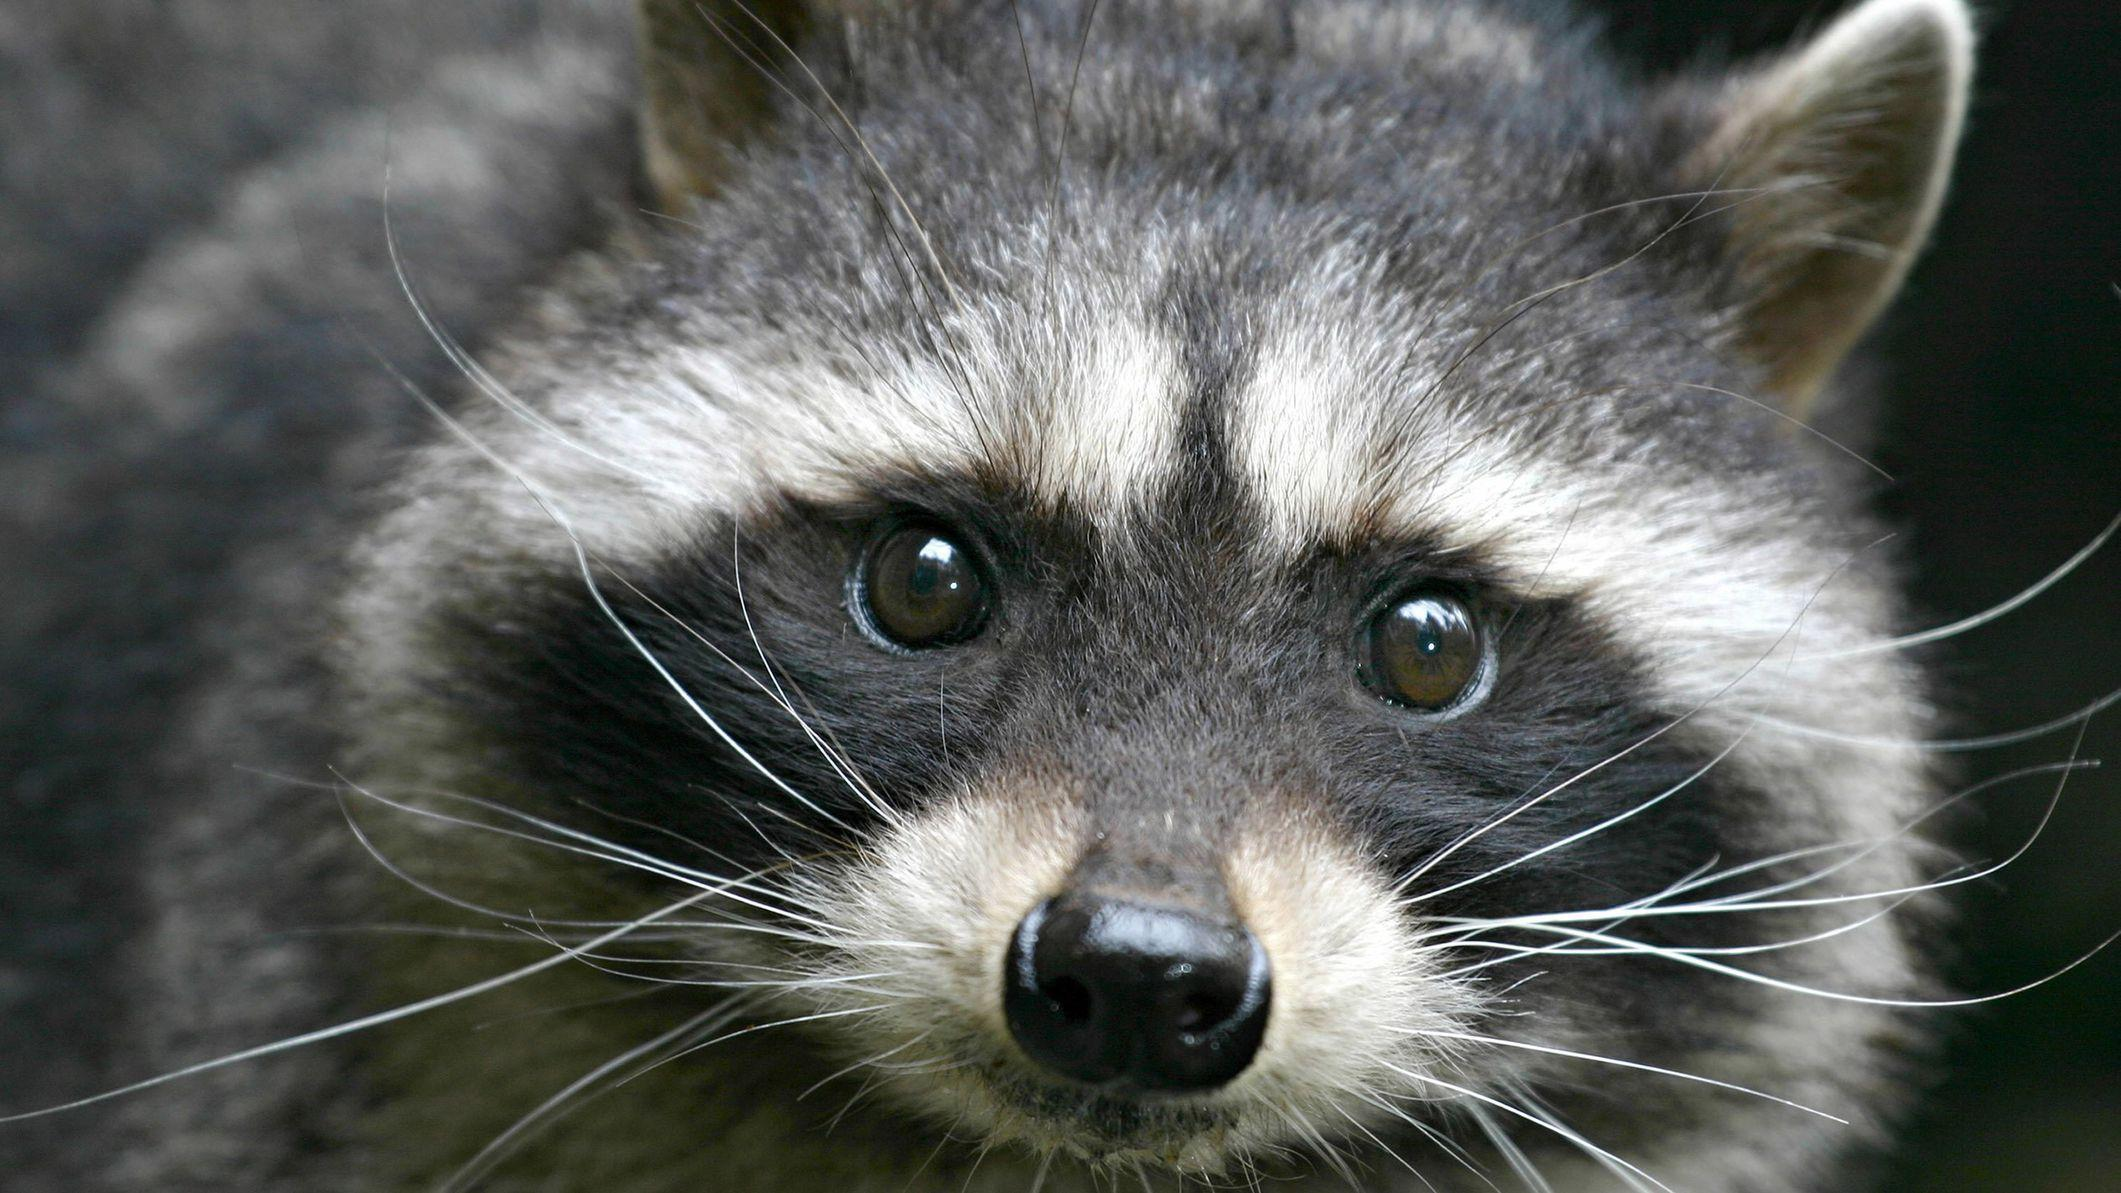raccoon: (0, 0, 1980, 1193)
